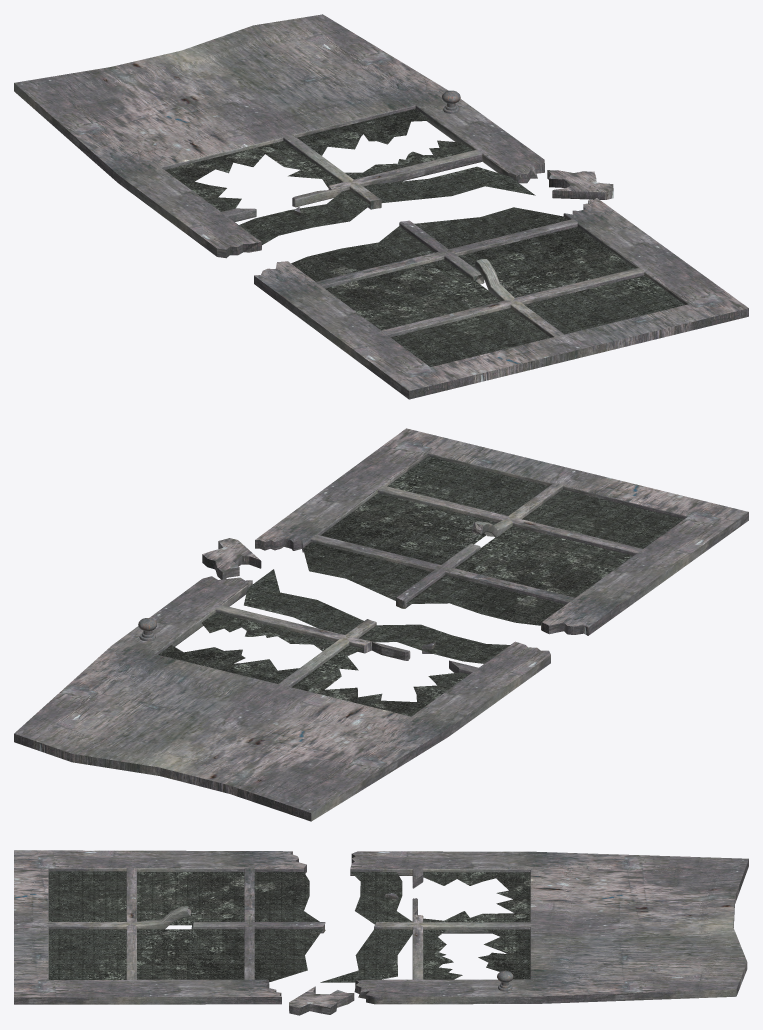
Rendered from BrokenDoor.FBX.
The picture shows the model from 3 angles, top to bottom: view 1: azimuth 30°, elevation 25°; view 2: azimuth 150°, elevation 25°; view 3: azimuth 270°, elevation 25°; orthographic projection. The views are drawn at different scales.
Visible parts, largest first — view 1: BrokenDoor; view 2: BrokenDoor; view 3: BrokenDoor.
Part boxes in pixels (left/top/right/bottom): BrokenDoor: left=14, top=14, right=748, bottom=399; BrokenDoor: left=14, top=428, right=748, bottom=821; BrokenDoor: left=14, top=850, right=748, bottom=1015.
Bounding box in the file's own units: 35.11 × 2.5 × 69.06.
